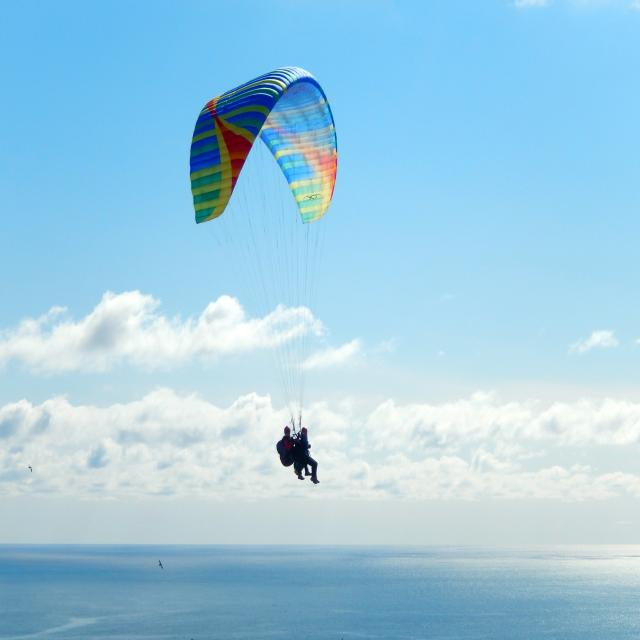paraglider: (188, 64, 338, 226)
